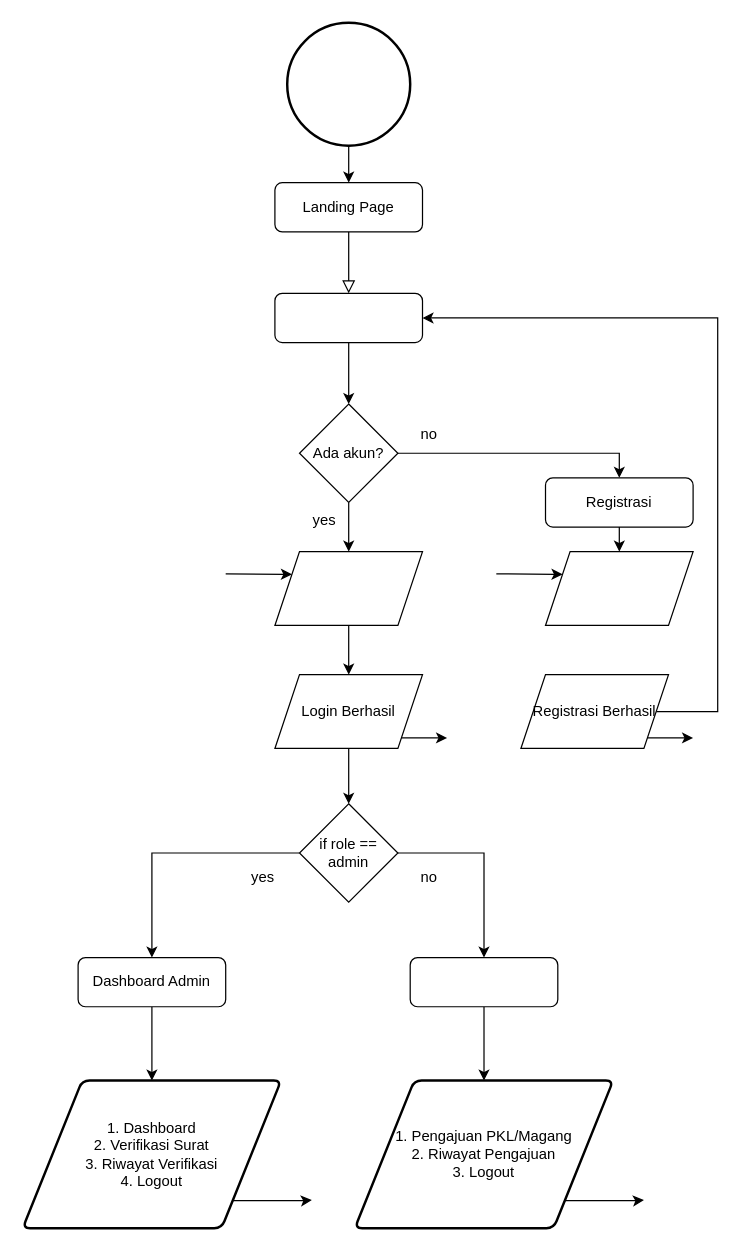
This 749x1250 diagram has some shape labels left out. The shapes that lost their labels are listed below. From the top down, each one's centre as x and y in pixels, then its label:
point 348,83: start
point 348,317: Login
point 348,587: input email dan password
point 618,587: input data user
point 483,981: Dashboard User
